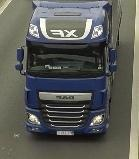truck: (15, 0, 121, 138)
